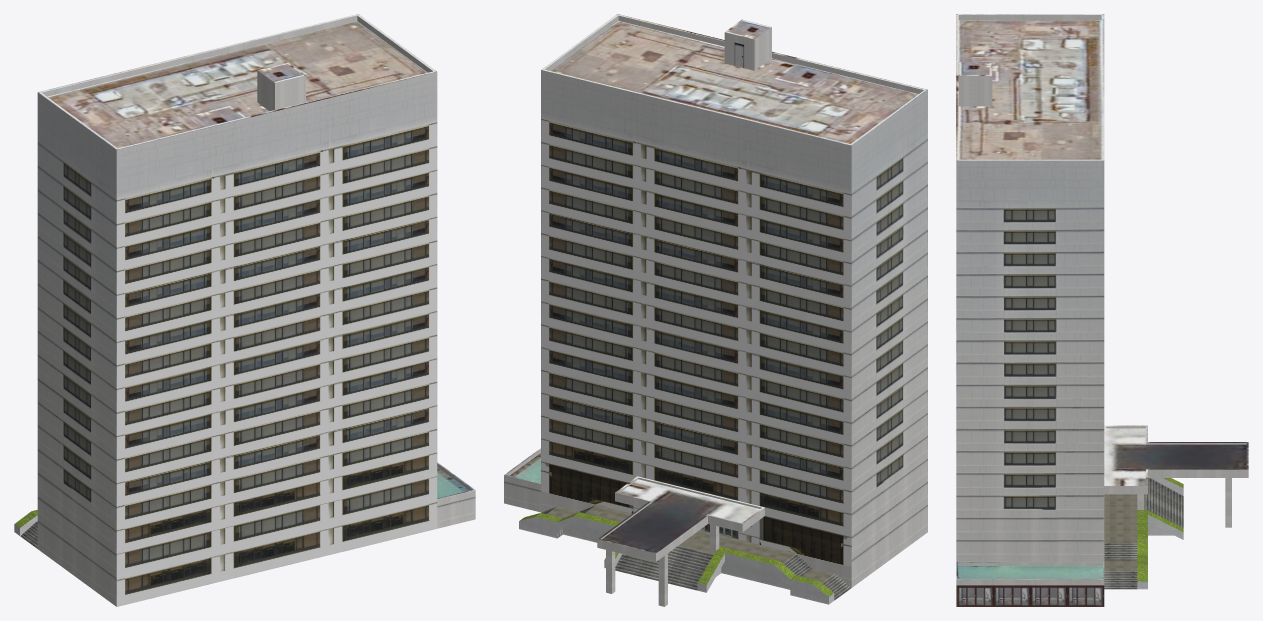
File: 3d_building.glb
3 renders of one model, left to right at view 1: azimuth 30°, elevation 25°; view 2: azimuth 150°, elevation 25°; view 3: azimuth 270°, elevation 25°, orthographic. The views are drawn at different scales.
Parts seen in each view (by area): view 1: JKT_MTP_61.001, JKT_MTP_61.012, JKT_MTP_61.005; view 2: JKT_MTP_61.001, JKT_MTP_61, JKT_MTP_61.002, JKT_MTP_61.003, JKT_MTP_61.012, JKT_MTP_61.005, JKT_MTP_61.007; view 3: JKT_MTP_61.001, JKT_MTP_61, JKT_MTP_61.005, JKT_MTP_61.002, JKT_MTP_61.012, JKT_MTP_61.007.
Part boxes in pixels (bbox=[...]): JKT_MTP_61.001: bbox=[37, 14, 437, 606]; JKT_MTP_61.012: bbox=[257, 62, 305, 111]; JKT_MTP_61.005: bbox=[437, 462, 475, 528]; JKT_MTP_61.001: bbox=[541, 14, 927, 587]; JKT_MTP_61: bbox=[597, 476, 764, 561]; JKT_MTP_61.002: bbox=[541, 505, 850, 600]; JKT_MTP_61.003: bbox=[697, 547, 834, 604]; JKT_MTP_61.012: bbox=[724, 19, 771, 70]; JKT_MTP_61.005: bbox=[504, 448, 540, 512]; JKT_MTP_61.007: bbox=[519, 512, 622, 568]; JKT_MTP_61.001: bbox=[956, 14, 1104, 561]; JKT_MTP_61: bbox=[1104, 425, 1248, 494]; JKT_MTP_61.005: bbox=[956, 562, 1104, 606]; JKT_MTP_61.002: bbox=[1104, 478, 1183, 589]; JKT_MTP_61.012: bbox=[958, 62, 992, 106]; JKT_MTP_61.007: bbox=[1137, 510, 1183, 589].
Size of the model in its own units: 40.39 by 52.04 by 30.41.
1 material, 1 textured.
